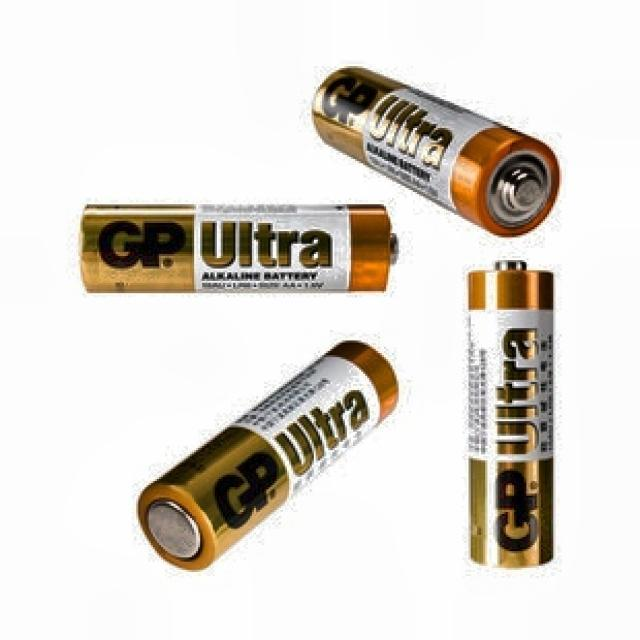battery: (140, 341, 395, 568), (314, 69, 559, 236), (81, 205, 394, 292), (469, 260, 554, 567)
